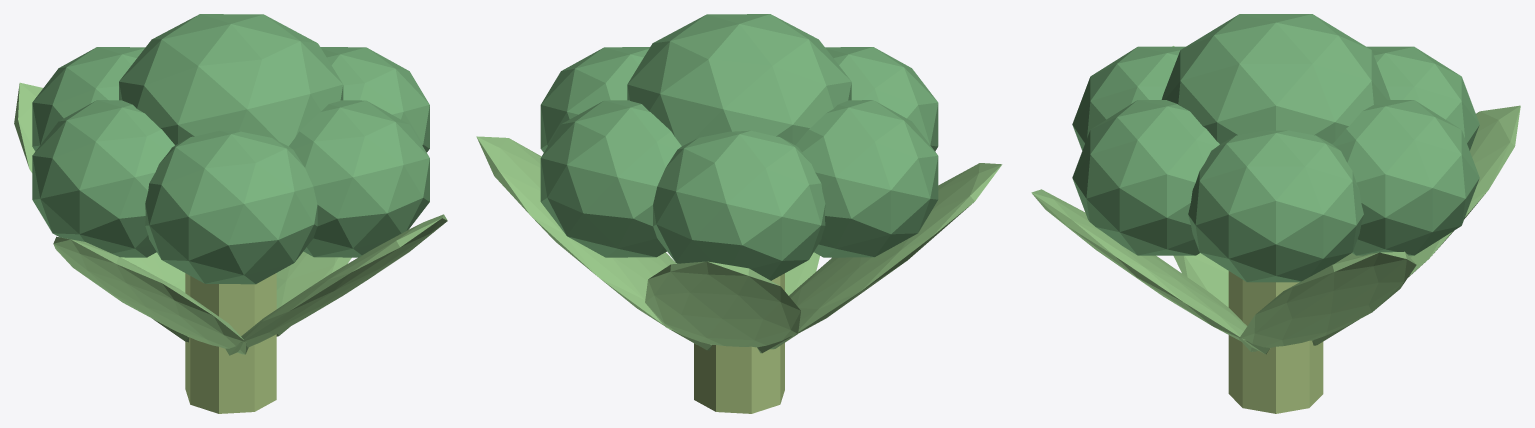
The model's file is brocoli.glb.
3 views of the same model, side by side, from view 1: azimuth 30°, elevation 25°; view 2: azimuth 150°, elevation 25°; view 3: azimuth 270°, elevation 25° (orthographic).
Parts seen in each view (by area): view 1: verde_osc, verde, verde_claro; view 2: verde_osc, verde, verde_claro; view 3: verde_osc, verde, verde_claro.
Boxes of the visible parts, box(x1,y1,x2,y2) form: verde_osc: box(32, 14, 429, 284); verde: box(14, 82, 447, 355); verde_claro: box(185, 273, 276, 413); verde_osc: box(540, 14, 938, 280); verde: box(476, 136, 1002, 353); verde_claro: box(694, 273, 784, 413); verde_osc: box(1072, 14, 1479, 282); verde: box(1031, 46, 1520, 354); verde_claro: box(1228, 271, 1323, 413).
Bounding box in the file's own units: 0.3106 × 0.26 × 0.3107.
